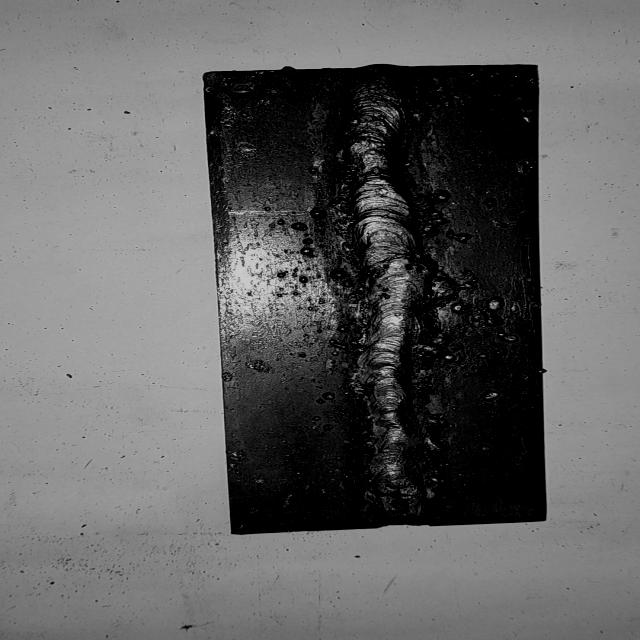Bad Weld: (340, 73, 431, 521)
Defect: (323, 252, 513, 333)
